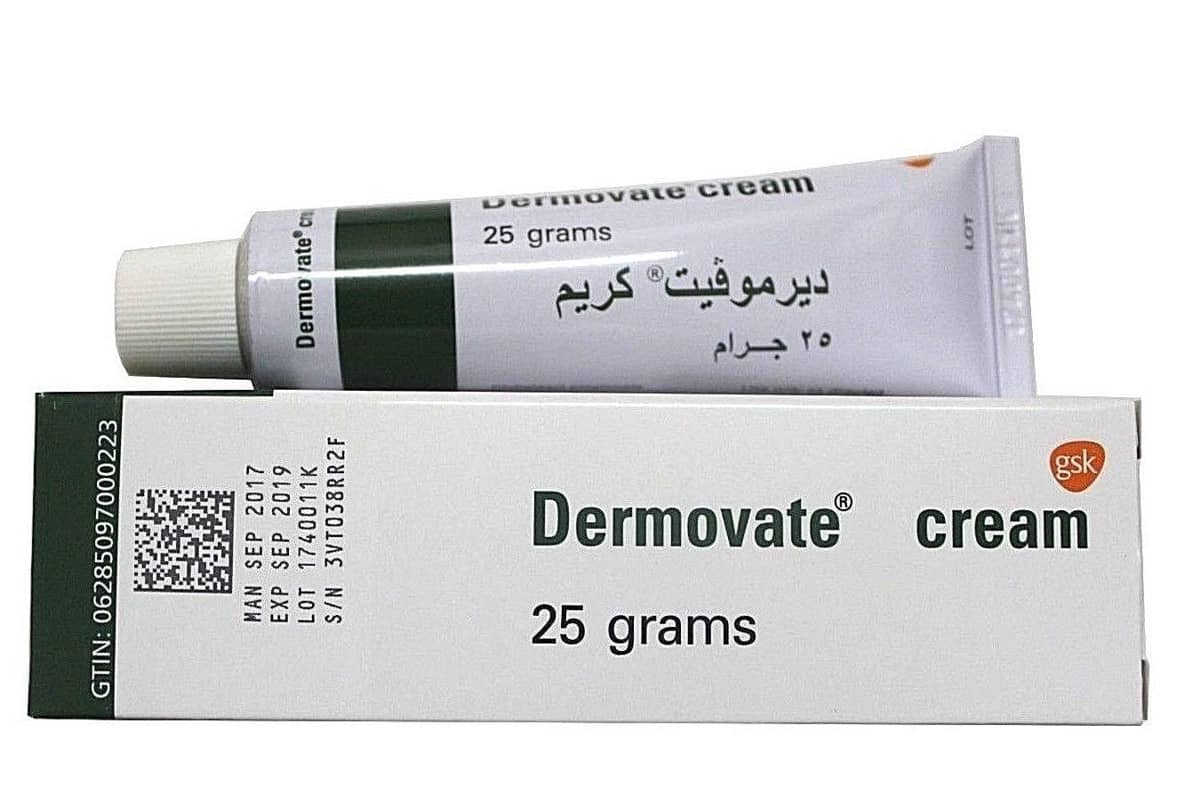Medicine: (18, 378, 1174, 750), (72, 126, 1072, 394)
